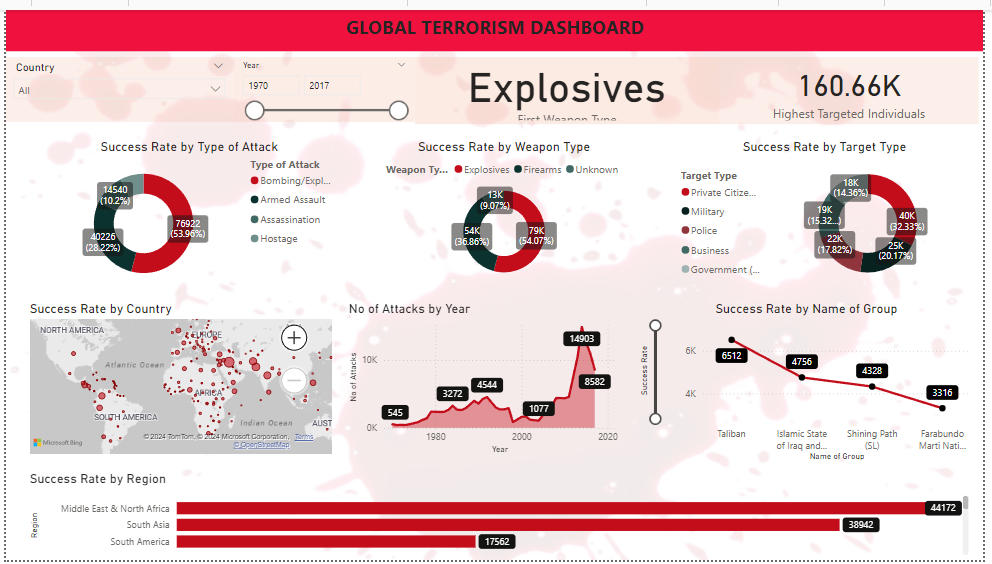

What the dashboard file says about the page in this screenshot:
{"tool":"powerbi","page":{"name":"Page 1","canvas":[1280,720],"ordinal":0},"visuals":[{"type":"donutChart","fields":{"Category":["Final Data.Type of Attack"],"Y":["Sum(Final Data.Success Rate)"]},"box":[35.1,169.1,409.3,202.1],"z":0},{"type":"donutChart","fields":{"Category":["Final Data.Weapon Type"],"Y":["Sum(Final Data.Success Rate)"]},"box":[475.3,169.1,353.6,194.8],"z":1000},{"type":"lineChart","fields":{"Y":["Sum(Final Data.Success Rate)"],"Category":["Final Data.Name of Group"]},"box":[821.6,381.4,451.5,213.4],"z":2000},{"type":"map","fields":{"Category":["Final Data.Country"],"Size":["Sum(Final Data.Success Rate)"]},"box":[25.8,381.4,406.2,205.2],"z":3000},{"type":"slicer","fields":{"Values":["Final Data.Country"]},"box":[0,61.9,296.9,84.5],"z":4000},{"type":"barChart","fields":{"Category":["Final Data.Region"],"Y":["Sum(Final Data.Success Rate)"]},"box":[25.8,604.1,1239.2,115.5],"z":5000},{"type":"donutChart","fields":{"Y":["Sum(Final Data.Success Rate)"],"Category":["Final Data.Target Type"]},"box":[878.4,169.1,386.6,202.1],"z":6000},{"type":"slicer","fields":{"Values":["Final Data.Year"]},"box":[296.9,61.9,238.1,84.5],"z":7000},{"type":"areaChart","fields":{"Category":["Final Data.Year"],"Y":["CountNonNull(Final Data.Year)"]},"box":[444.3,381.4,361.9,205.2],"z":8000},{"type":"card","fields":{"Values":["CountNonNull(Final Data.Target Type)"]},"box":[933,61.9,340.2,87.6],"z":9000},{"type":"card","fields":{"Values":["Min(Final Data.Weapon Type)"]},"box":[535.1,61.9,397.9,87.6],"z":10000},{"type":"textbox","box":[0,0,1280.4,53.6],"z":10001}]}

Visuals, with their boxes in screenshot pixels (x1, y1, x2, y2), scaled from the page's 1280x720 canvas onto the 992x564 screenshot:
donutChart - Final Data.Type of Attack x Sum(Final Data.Success Rate): x1=27, y1=132, x2=344, y2=291
donutChart - Final Data.Weapon Type x Sum(Final Data.Success Rate): x1=368, y1=132, x2=642, y2=285
lineChart - Sum(Final Data.Success Rate) x Final Data.Name of Group: x1=637, y1=299, x2=987, y2=466
map - Final Data.Country x Sum(Final Data.Success Rate): x1=20, y1=299, x2=335, y2=460
slicer - Final Data.Country: x1=0, y1=48, x2=230, y2=115
barChart - Final Data.Region x Sum(Final Data.Success Rate): x1=20, y1=473, x2=980, y2=563
donutChart - Sum(Final Data.Success Rate) x Final Data.Target Type: x1=681, y1=132, x2=980, y2=291
slicer - Final Data.Year: x1=230, y1=48, x2=415, y2=115
areaChart - Final Data.Year x CountNonNull(Final Data.Year): x1=344, y1=299, x2=625, y2=460
card - CountNonNull(Final Data.Target Type): x1=723, y1=48, x2=987, y2=117
card - Min(Final Data.Weapon Type): x1=415, y1=48, x2=723, y2=117
textbox: x1=0, y1=0, x2=991, y2=42
